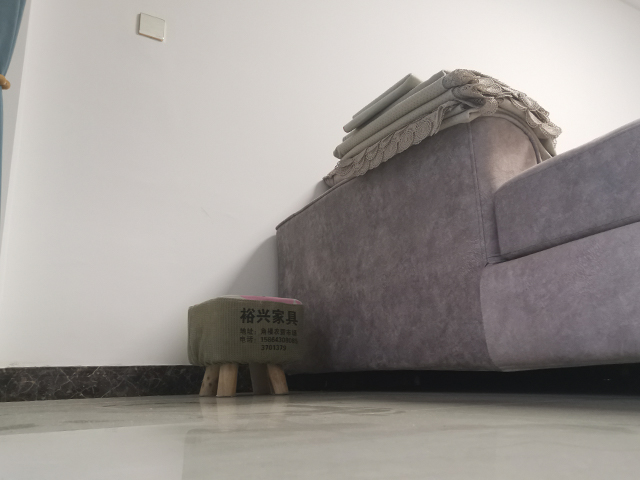sofa: (272, 66, 640, 391)
stool: (186, 293, 307, 398)
